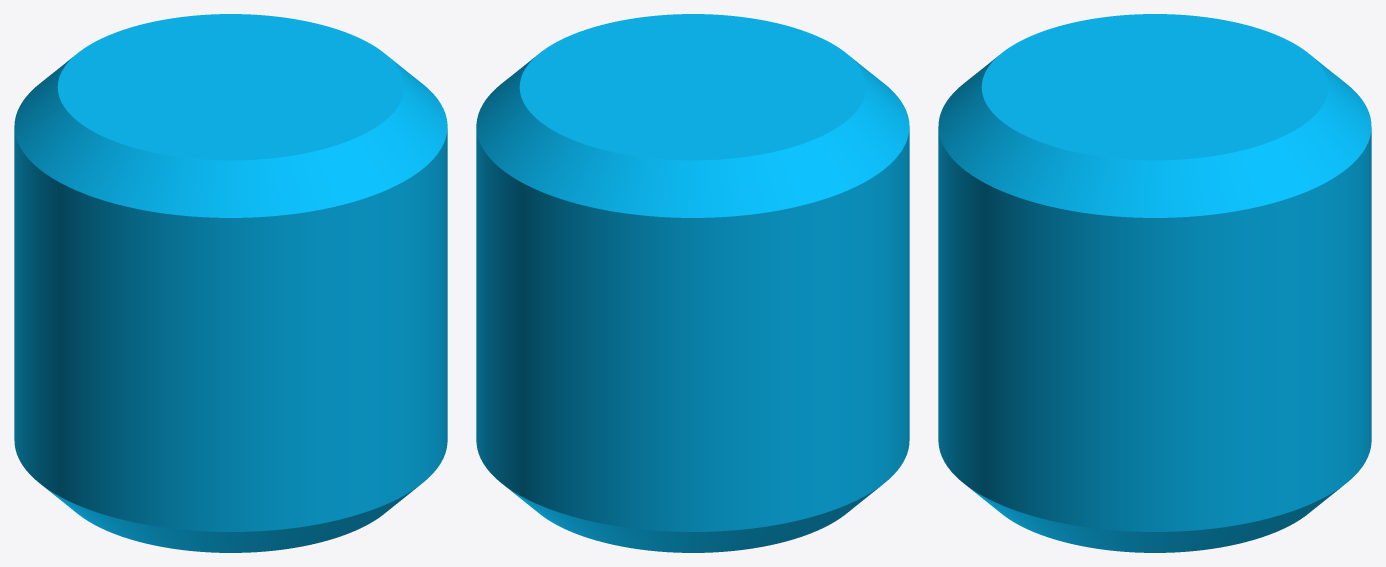
Rendered from attr_circular_kenar_pah.gltf.
3 views of the same model, side by side, from view 1: azimuth 30°, elevation 25°; view 2: azimuth 150°, elevation 25°; view 3: azimuth 270°, elevation 25° (orthographic).
Parts seen in each view (by area): view 1: Gövde; view 2: Gövde; view 3: Gövde.
Boxes of the visible parts, x1,y1,x2,y2 form: Gövde: [14, 14, 447, 552]; Gövde: [476, 14, 909, 552]; Gövde: [938, 14, 1371, 552].
Bounding box in the file's own units: 0.01 × 0.01 × 0.01.
